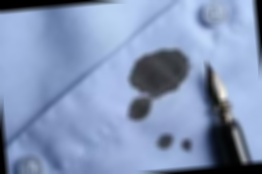ink: (128, 48, 192, 101), (125, 102, 151, 120), (157, 134, 173, 149), (182, 139, 192, 151)
